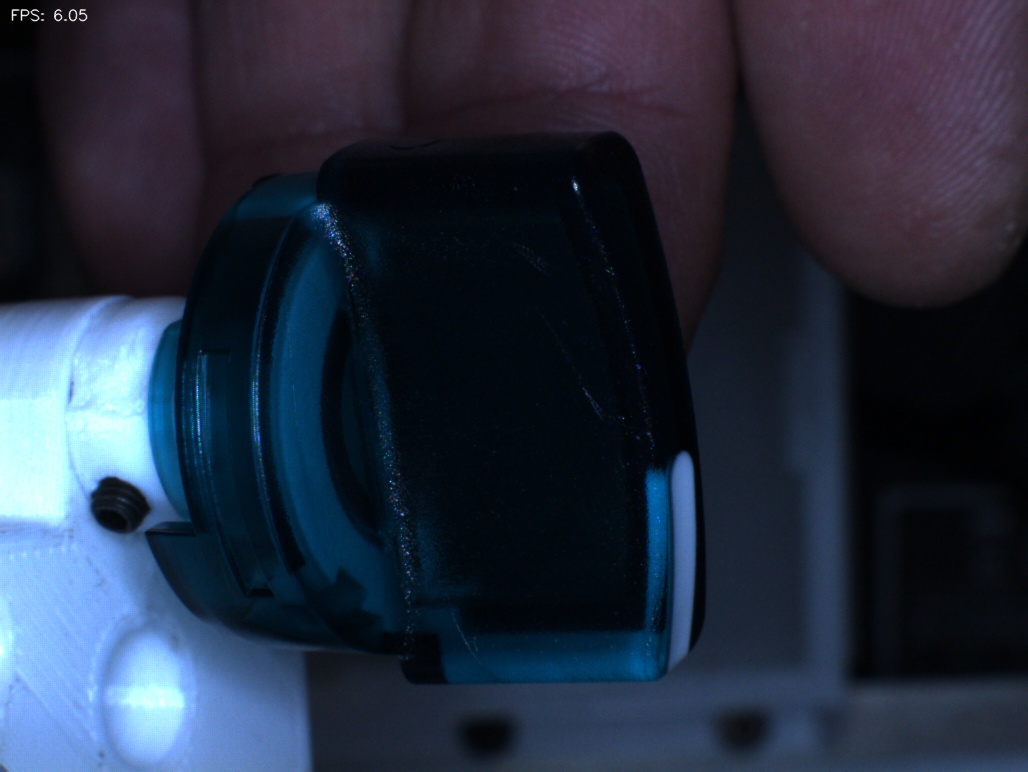Givrage: (515, 307, 643, 462), (483, 220, 572, 295)
